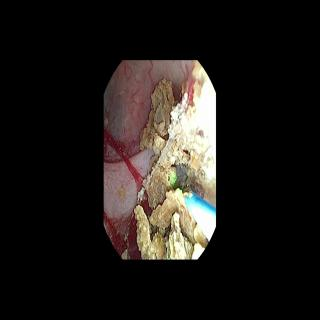fiber: (186, 192, 215, 241)
laser: (171, 173, 177, 184)
stone: (134, 62, 215, 257), (119, 188, 125, 198), (122, 249, 127, 257)
